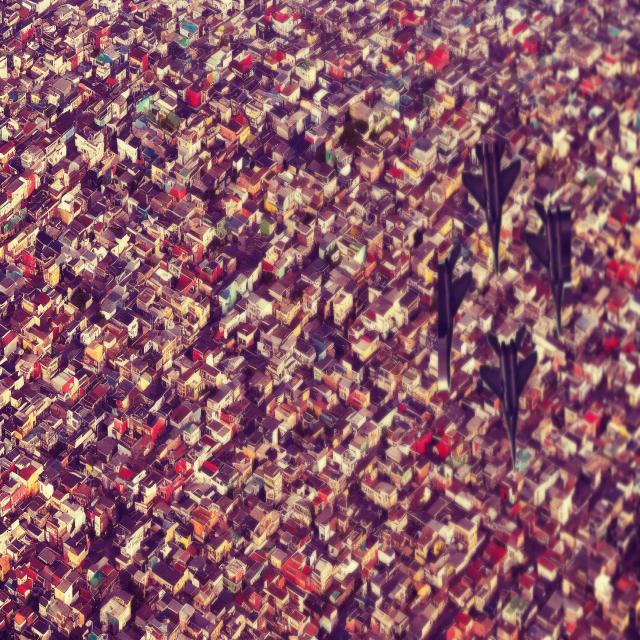airplane: (479, 328, 538, 467), (462, 143, 522, 278), (525, 195, 570, 331), (434, 245, 472, 390)
